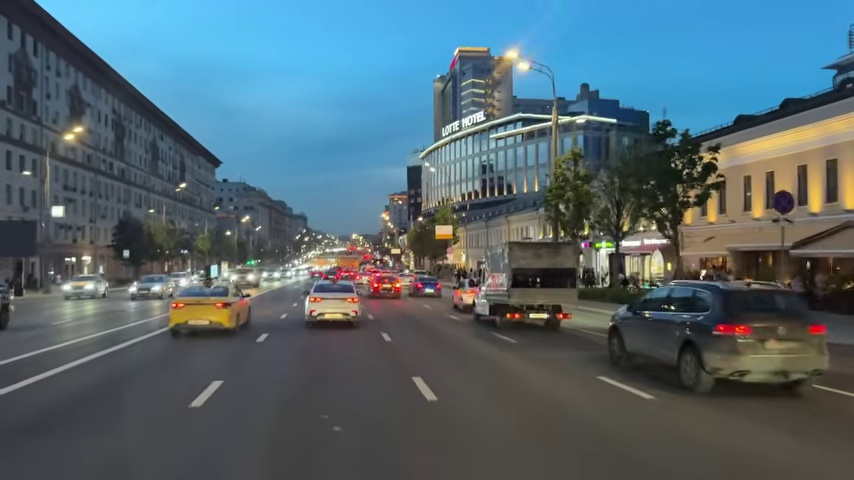acesa: (414, 377, 436, 402), (500, 51, 525, 71), (63, 124, 85, 145), (50, 205, 66, 220), (502, 50, 518, 65)
